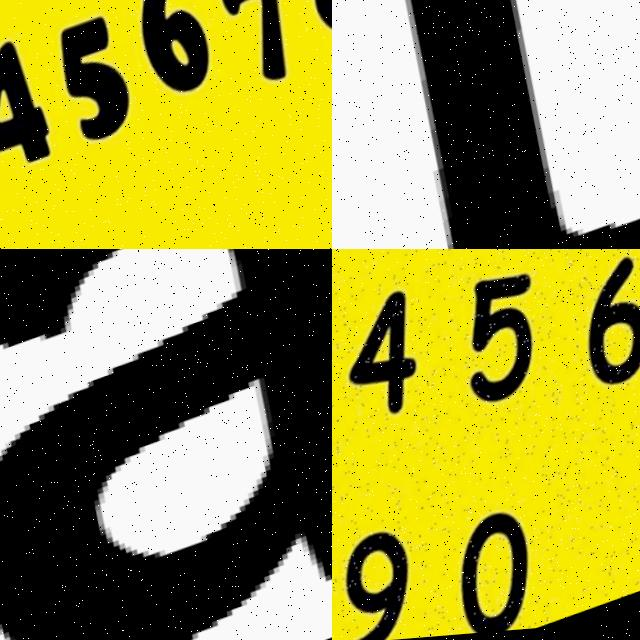0: (417, 461, 588, 640), (13, 215, 142, 249)
1: (332, 0, 640, 249)
4: (332, 256, 472, 458), (0, 0, 82, 196)
5: (418, 249, 594, 442), (25, 0, 158, 162)
6: (536, 249, 640, 425), (107, 0, 235, 115)
7: (188, 0, 329, 117)
8: (332, 495, 363, 640), (269, 0, 332, 65)
9: (332, 467, 477, 640)
A: (0, 249, 332, 640)
